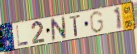1: (113, 6, 123, 31)
2: (30, 21, 46, 46)
G: (88, 10, 104, 34)
L: (15, 25, 30, 47)
N: (50, 16, 67, 43)
T: (68, 14, 82, 38)
